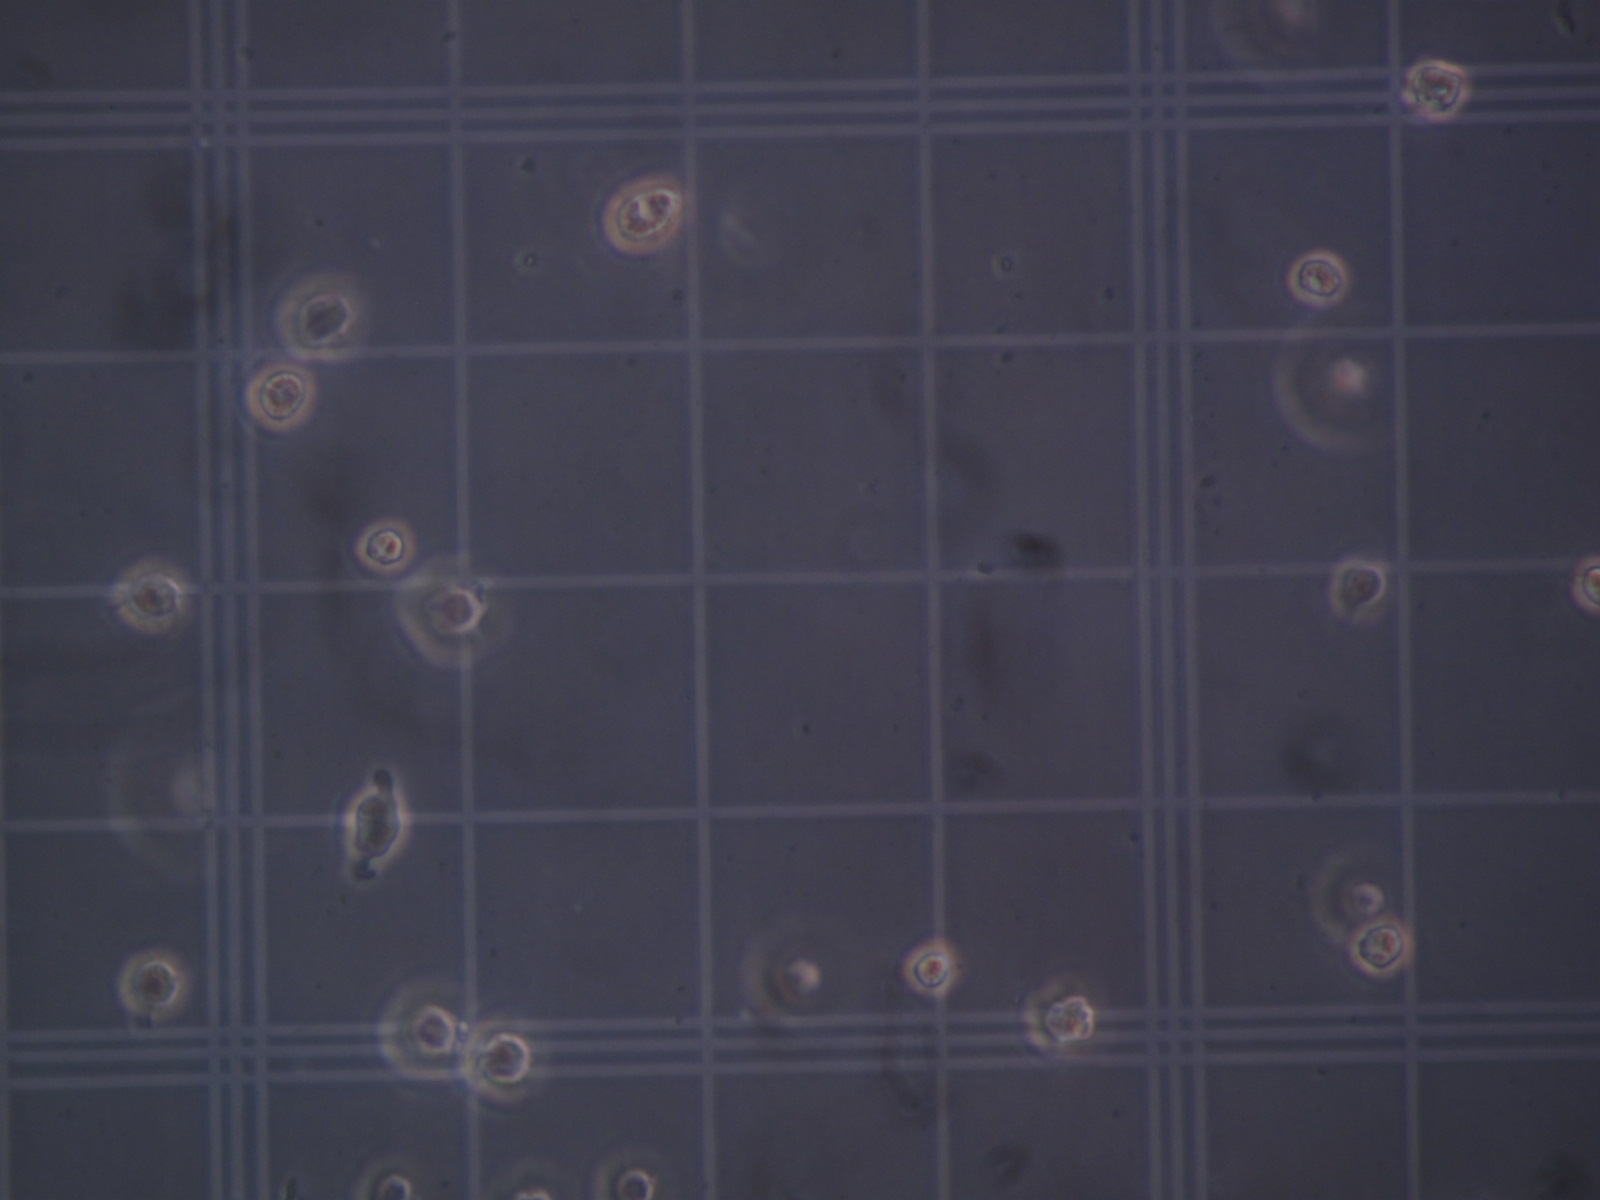hemo: (1272, 334, 1390, 456), (394, 555, 508, 668), (375, 979, 461, 1082), (272, 271, 368, 362), (742, 924, 824, 1029), (1308, 847, 1388, 943), (602, 175, 683, 255), (465, 1015, 535, 1103), (112, 558, 185, 633), (1023, 981, 1095, 1054), (244, 363, 316, 431), (117, 950, 185, 1018), (345, 788, 404, 863), (1405, 58, 1468, 121), (1351, 918, 1414, 977), (1329, 557, 1387, 621), (1288, 250, 1348, 308), (355, 518, 416, 574), (592, 1150, 656, 1200), (903, 942, 957, 997), (355, 1158, 414, 1200), (1572, 556, 1600, 614)
